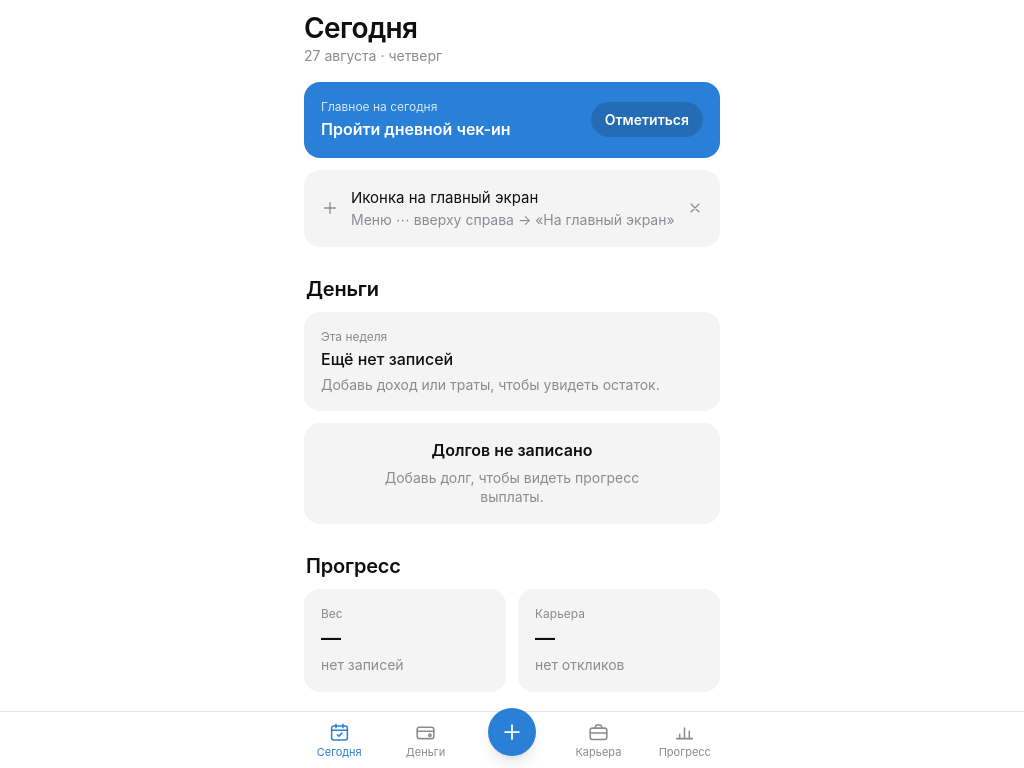
Scenario: add button › opens a working form for Долг
The image size is (1024, 768).
expect the text "Главное на сегодня" is shown: met, box 321,99 -> 437,114
Click the button named "Добавить запись" at [512, 732], box 488,708 -> 536,756
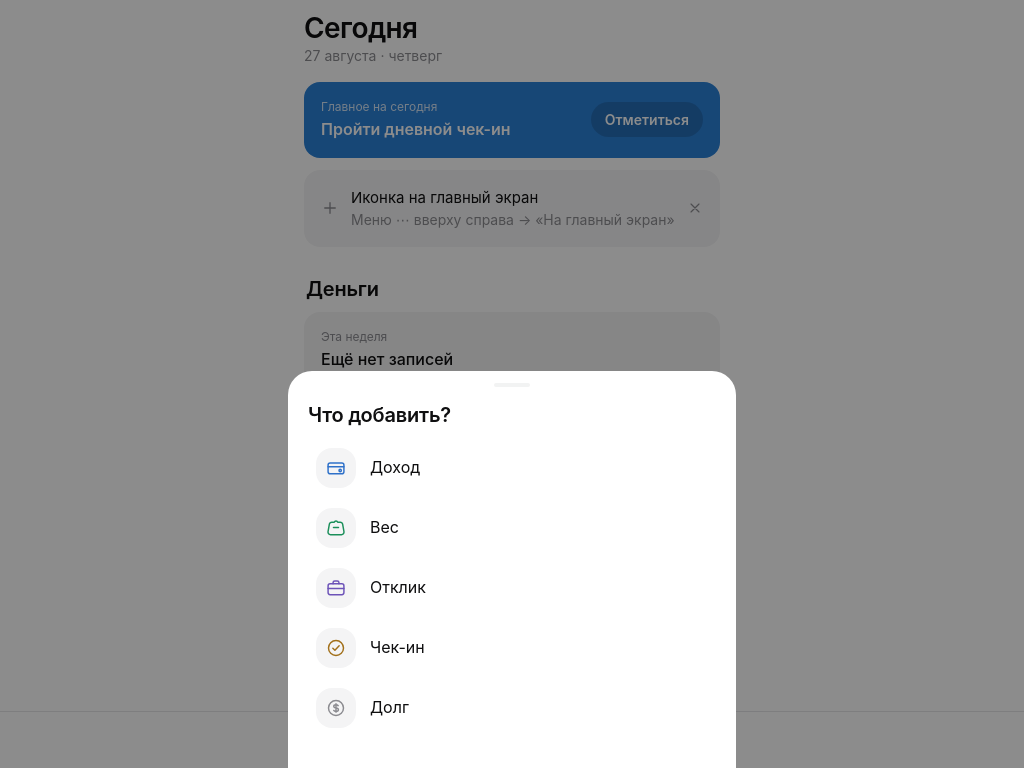
expect the heading "Что добавить?" is shown: met, box 308,403 -> 451,427
Click the button "Долг" at [336, 708], box 304,680 -> 720,736
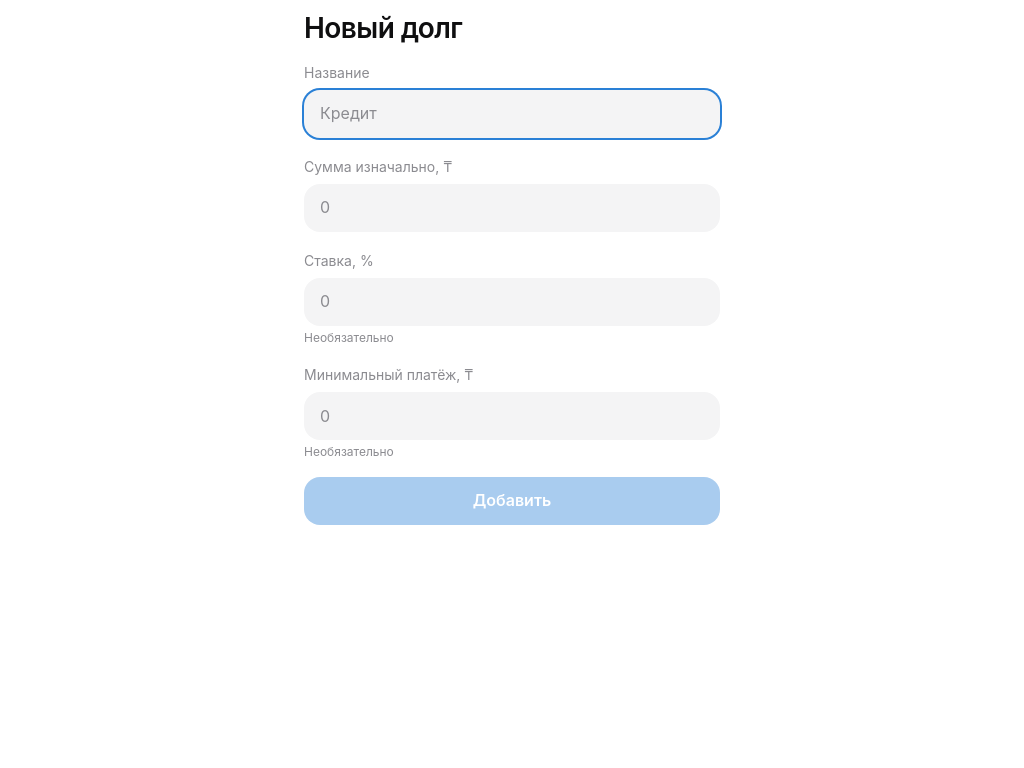
expect the heading "Новый долг" is shown: met, box 304,12 -> 462,44
